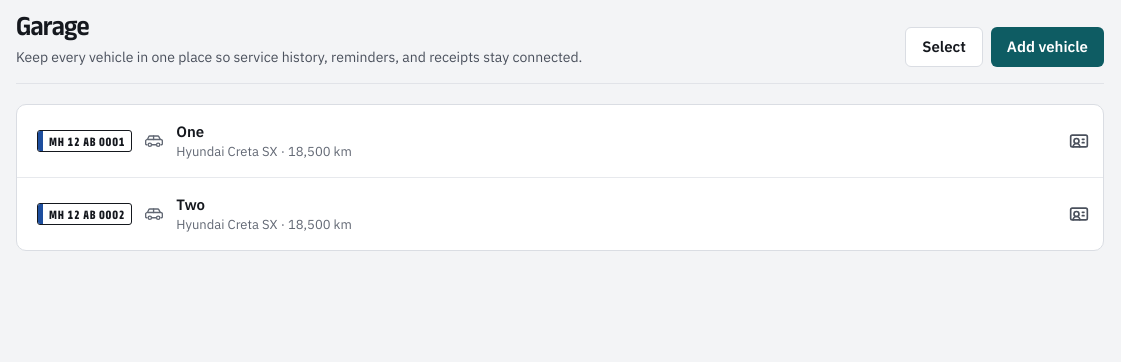
Scenario: VehiclesListPage › keeps bulk actions behind Select
Expected: the text "Select all visible" is not shown
Click the button "Select": (944, 47) [905,27,983,67]
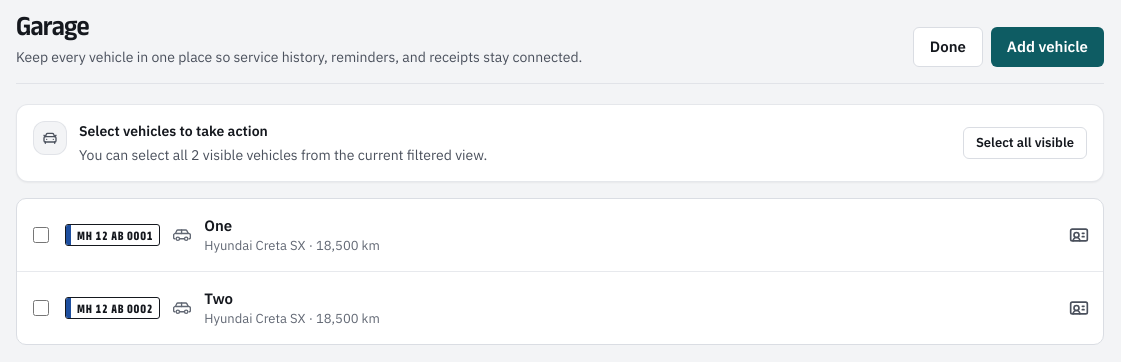
Click the checkbox named "Select vehicle One": (41, 235) [33,227,49,243]
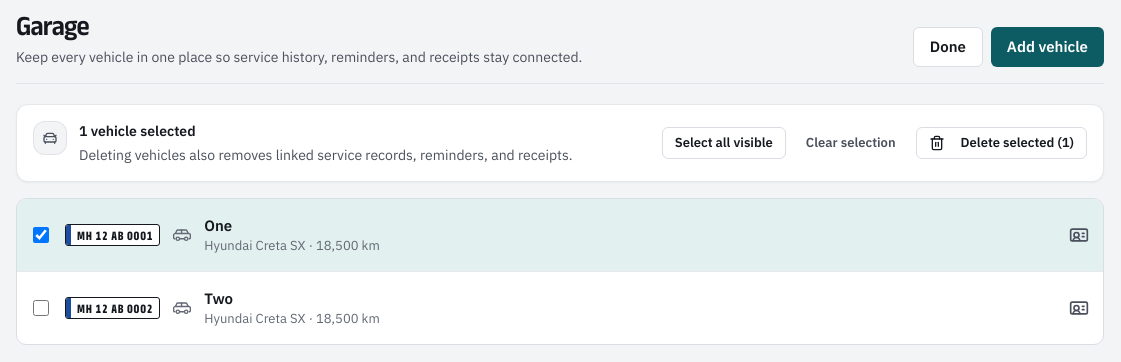
Now the text "1 vehicle selected" is shown, box [79,122,196,140]
Click the button "Done": (948, 47) [913,27,983,67]
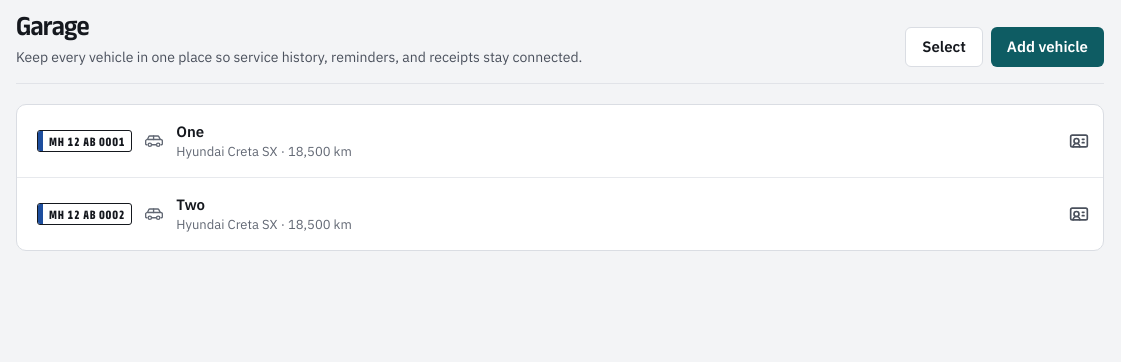
Now the checkbox is gone
